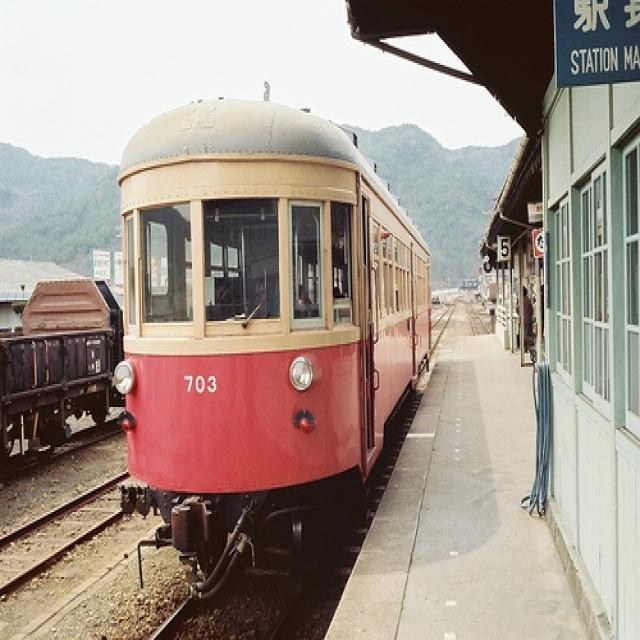train: (118, 95, 432, 579), (0, 282, 113, 454)
